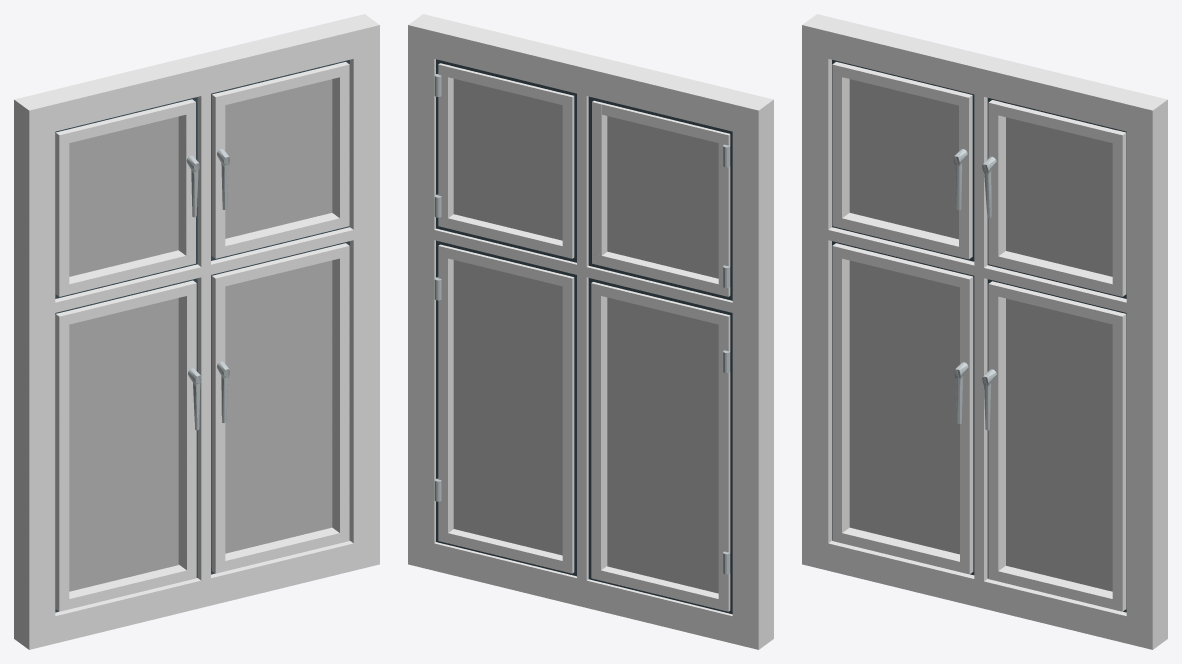
The picture shows the model from 3 angles, left to right: view 1: azimuth 30°, elevation 25°; view 2: azimuth 150°, elevation 25°; view 3: azimuth 330°, elevation 25°; orthographic projection.
Parts seen in each view (by area): view 1: mesh_593852955, mesh_318304251, mesh_2040139540, mesh_279100259, mesh_1567990600, mesh_882742281, mesh_1443614901, mesh_1095300195, group_1535698133, mesh_564018101, mesh_684877801, mesh_89352579 (+12 smaller); view 2: mesh_593852955, mesh_318304251, mesh_2040139540, mesh_279100259, mesh_1567990600, mesh_1443614901, mesh_882742281, mesh_1095300195, group_1535698133, mesh_564018101, mesh_684877801, mesh_89352579 (+19 smaller); view 3: mesh_593852955, mesh_318304251, mesh_882742281, mesh_2040139540, mesh_279100259, mesh_1567990600, mesh_1443614901, mesh_1095300195, group_1535698133, mesh_564018101, mesh_1097680268, mesh_116658328 (+13 smaller).
Boxes of the visible parts, x1,y1,x2,y2 form: mesh_593852955: (69, 298, 178, 591); mesh_318304251: (225, 260, 332, 553); mesh_2040139540: (14, 123, 55, 639); mesh_279100259: (14, 14, 379, 137); mesh_1567990600: (69, 116, 178, 276); mesh_882742281: (350, 52, 379, 543); mesh_1443614901: (225, 79, 332, 238); mesh_1095300195: (14, 537, 379, 649); group_1535698133: (211, 62, 349, 258); mesh_564018101: (197, 88, 210, 587); mesh_684877801: (178, 280, 196, 580); mesh_89352579: (332, 243, 349, 543); mesh_593852955: (607, 297, 718, 593); mesh_318304251: (453, 260, 562, 555); mesh_2040139540: (732, 127, 773, 639); mesh_279100259: (408, 14, 773, 137); mesh_1567990600: (607, 116, 718, 278); mesh_1443614901: (453, 78, 562, 240); mesh_882742281: (408, 52, 435, 546); mesh_1095300195: (408, 540, 773, 649); group_1535698133: (438, 63, 574, 258); mesh_564018101: (577, 93, 588, 580); mesh_684877801: (591, 282, 607, 580); mesh_89352579: (438, 244, 453, 542); mesh_593852955: (849, 260, 959, 554); mesh_318304251: (1006, 298, 1112, 591); mesh_882742281: (1126, 127, 1167, 622); mesh_2040139540: (802, 43, 831, 560); mesh_279100259: (802, 14, 1167, 137); mesh_1567990600: (849, 79, 958, 239); mesh_1443614901: (1006, 117, 1112, 276); mesh_1095300195: (802, 541, 1167, 649); group_1535698133: (988, 100, 1126, 296); mesh_564018101: (974, 89, 987, 587); mesh_1097680268: (832, 243, 849, 543); mesh_116658328: (988, 281, 1005, 581).
Bounding box in the file's own units: 164 × 241 × 20.48.
